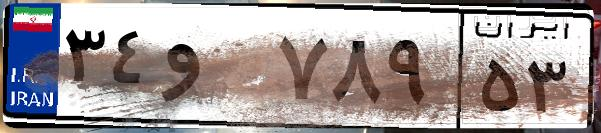3: (57, 26, 110, 100), (525, 38, 570, 115)
4: (110, 28, 158, 98)
5: (475, 38, 525, 113)
7: (270, 28, 330, 110)
8: (330, 28, 385, 110)
9: (385, 28, 445, 110)
و: (158, 20, 270, 120)
